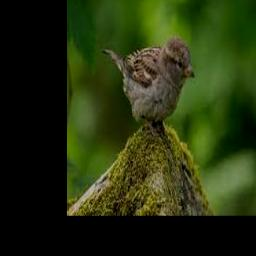Sparrow: (103, 34, 196, 135)
